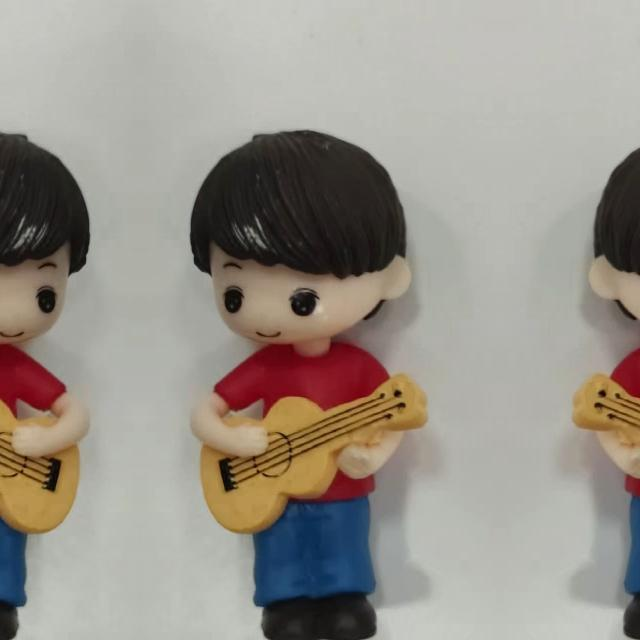man cloth: (212, 342, 396, 498), (0, 342, 68, 497), (603, 342, 640, 497)
man head: (186, 125, 414, 348), (0, 125, 93, 348), (586, 125, 640, 348)
trousers: (242, 497, 386, 638), (0, 496, 38, 637), (614, 496, 640, 637)
